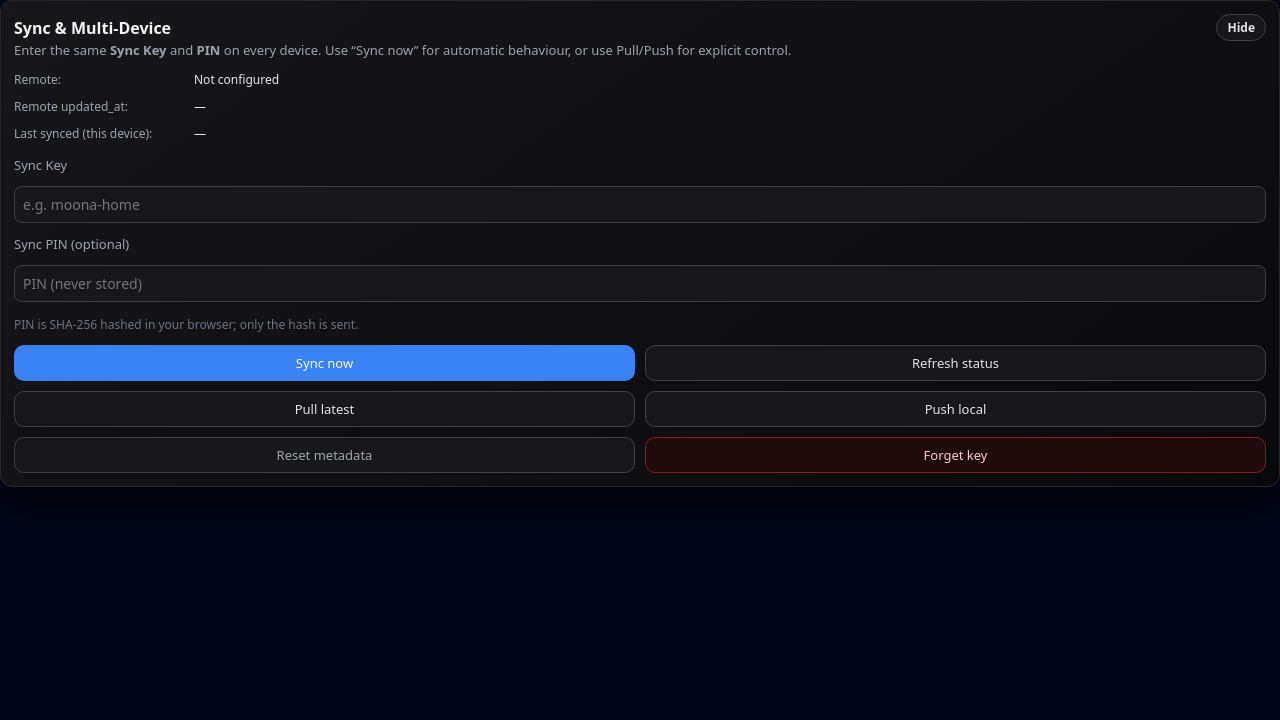
SyncSection - no remote configured (stub adapter) › remembers the sync key and reports an init/sync result
Step 1. Type "my-key" into the field with placeholder "e.g. moona-home" → (640, 204), box [14,186,1266,223]
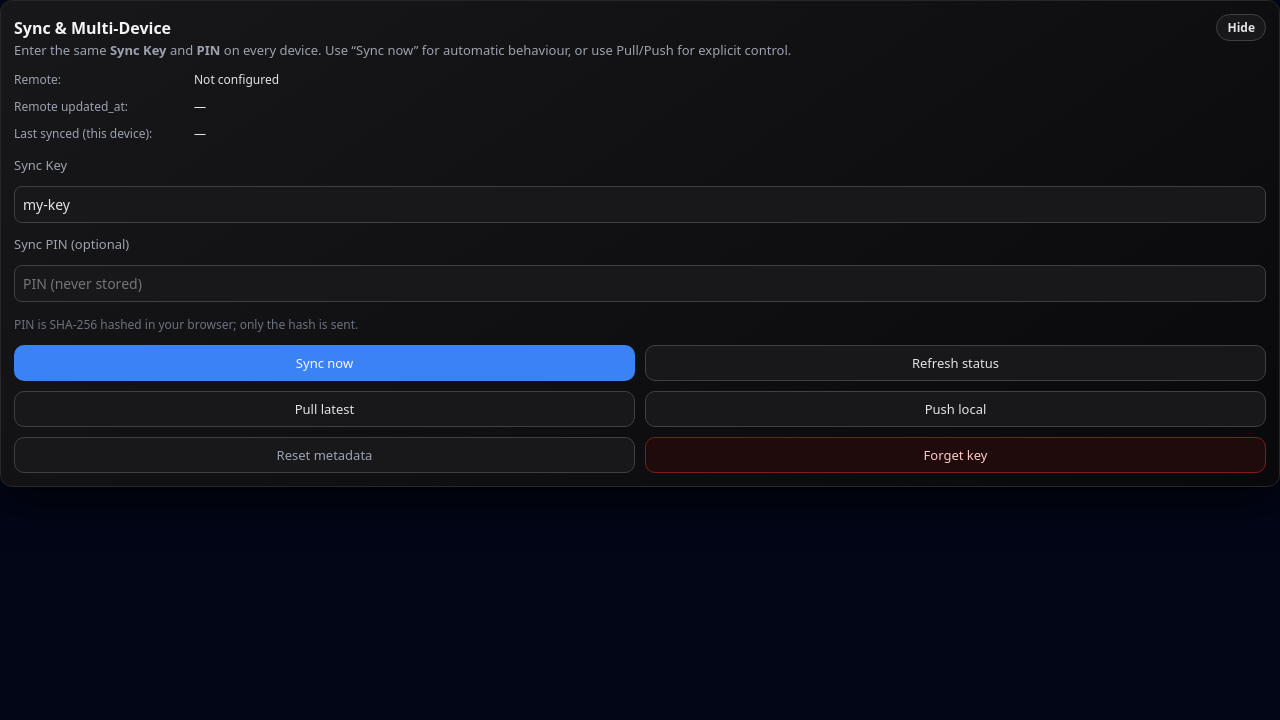
Step 2. Click the button "Sync now" → (324, 363), box [14,345,635,381]
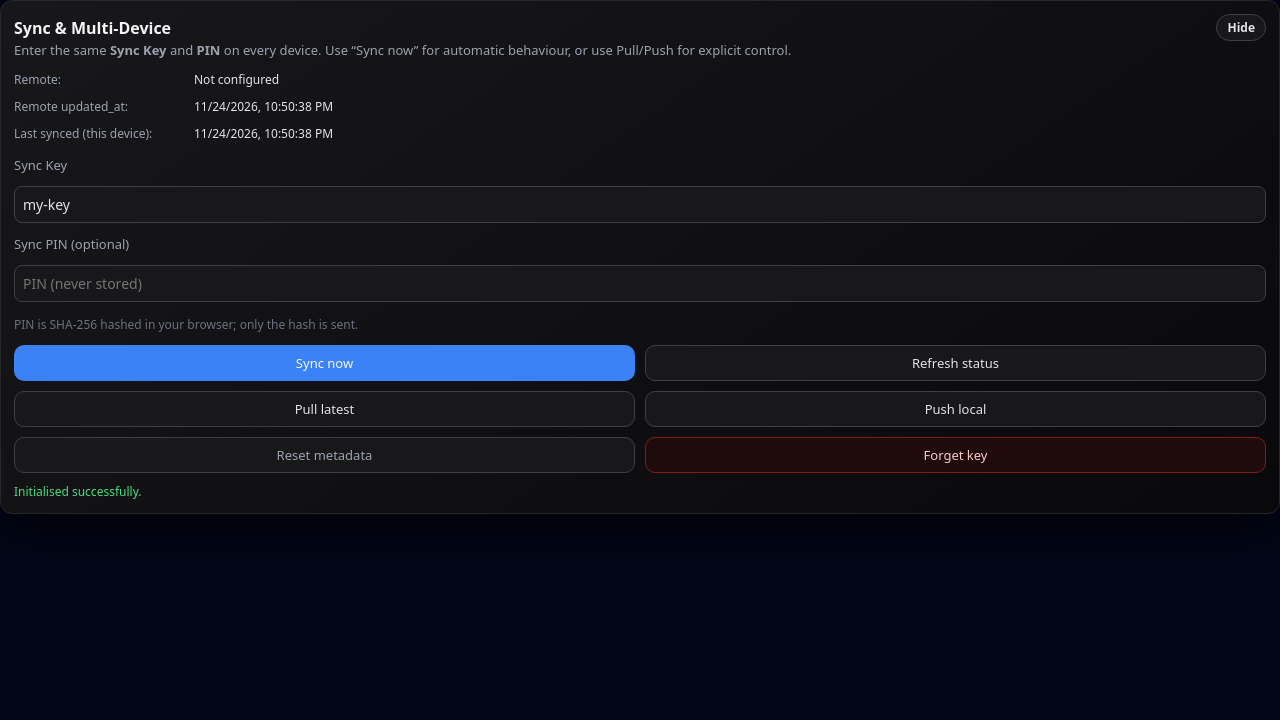
Expected: the text "Initialised successfully." is shown, [14,483,142,500]
